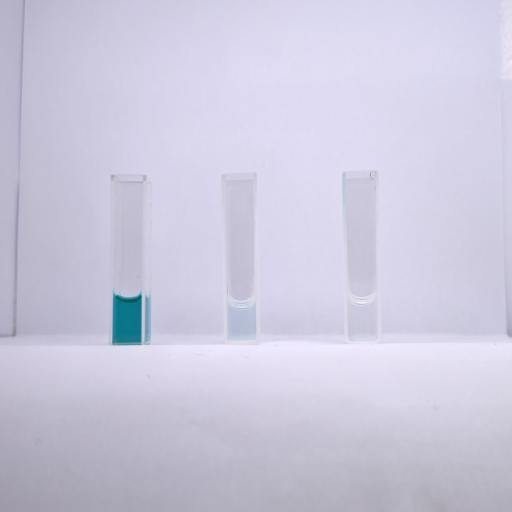cuvette: (340, 169, 382, 345), (220, 170, 260, 345), (108, 173, 148, 346)
liquid: (112, 292, 142, 342), (347, 295, 377, 341), (227, 298, 255, 340)
